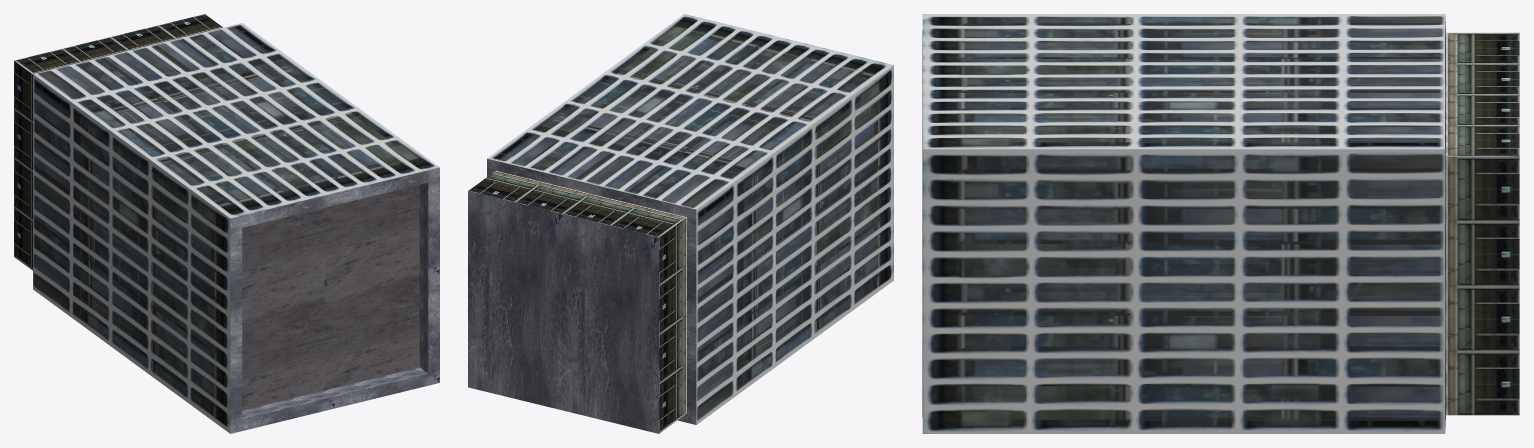
The model's file is urbanoffice4a_wtf.obj.
The picture shows the model from 3 angles, left to right: view 1: azimuth 30°, elevation 25°; view 2: azimuth 150°, elevation 25°; view 3: azimuth 270°, elevation 25°; orthographic projection. The views are drawn at different scales.
Parts seen in each view (by area): view 1: group5, group4, group3; view 2: group5, group3; view 3: group5, group3.
Boxes of the visible parts, x1,y1,x2,y2 form: group5: [14, 14, 439, 433]; group4: [242, 184, 419, 410]; group3: [230, 167, 439, 433]; group5: [468, 14, 893, 433]; group3: [468, 158, 696, 433]; group5: [922, 14, 1519, 433]; group3: [922, 15, 1445, 432].
Size of the model in its own units: 354 by 347 by 660.
